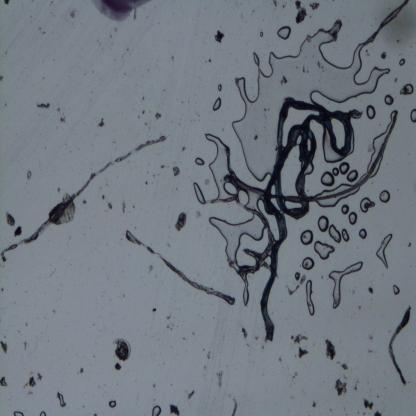Air bubble: (229, 19, 393, 170), (208, 214, 266, 272), (204, 132, 234, 198), (329, 260, 363, 309), (376, 233, 394, 268), (320, 130, 338, 164), (242, 189, 264, 212), (368, 128, 384, 159), (314, 240, 336, 260), (239, 272, 250, 306), (321, 182, 350, 194), (192, 181, 206, 205), (306, 280, 315, 317), (316, 196, 341, 209), (328, 224, 342, 244), (320, 170, 336, 187), (276, 25, 292, 40), (302, 256, 316, 272), (300, 229, 314, 245), (318, 215, 329, 232), (57, 390, 67, 408), (379, 188, 391, 203), (338, 161, 350, 175), (401, 82, 413, 96), (366, 105, 377, 120), (360, 197, 370, 213), (150, 404, 163, 416), (347, 168, 358, 182), (212, 96, 222, 111), (348, 211, 358, 226), (250, 49, 260, 64), (342, 228, 350, 243), (391, 283, 401, 295), (384, 94, 394, 106), (358, 228, 368, 239), (341, 204, 350, 215), (306, 163, 314, 175), (195, 156, 205, 165), (410, 108, 416, 122), (331, 166, 339, 176), (398, 58, 406, 66), (109, 399, 116, 408), (14, 410, 24, 416), (295, 272, 302, 280), (40, 410, 46, 416), (218, 84, 222, 92), (259, 30, 263, 36)
Background material: (49, 192, 76, 228), (112, 338, 132, 362), (286, 274, 306, 295), (294, 0, 308, 25), (323, 336, 337, 361), (288, 332, 307, 346), (334, 377, 347, 396), (174, 212, 187, 231), (3, 210, 17, 227), (168, 403, 181, 416), (362, 396, 374, 410), (35, 100, 50, 110), (214, 29, 224, 44), (216, 370, 224, 388), (336, 361, 350, 371), (13, 224, 22, 238), (231, 398, 238, 416), (28, 376, 38, 388), (298, 348, 308, 360), (352, 378, 362, 390), (0, 340, 8, 354), (172, 164, 180, 177), (188, 388, 196, 400), (97, 116, 105, 128), (279, 75, 288, 85), (0, 376, 8, 387), (308, 3, 320, 10), (290, 371, 298, 381), (364, 201, 375, 208), (38, 27, 47, 35), (26, 170, 32, 181), (106, 202, 114, 210), (380, 51, 388, 59), (195, 209, 202, 218), (115, 362, 122, 371), (368, 286, 375, 295), (242, 327, 247, 339), (37, 372, 43, 382), (154, 112, 162, 119), (59, 115, 67, 122), (166, 324, 174, 331), (70, 9, 76, 18), (273, 0, 279, 9), (207, 349, 212, 359), (23, 340, 28, 350), (26, 390, 34, 396), (406, 240, 412, 248), (22, 381, 28, 389), (50, 268, 56, 276), (366, 48, 371, 57), (122, 202, 126, 213), (251, 8, 257, 15), (375, 410, 382, 416), (165, 242, 171, 249), (312, 400, 318, 407), (368, 333, 374, 340), (278, 354, 283, 362), (148, 264, 153, 272), (302, 64, 306, 74), (4, 0, 10, 6), (180, 146, 186, 152), (81, 198, 87, 204), (204, 179, 210, 185), (79, 367, 84, 374), (166, 315, 172, 320), (100, 194, 105, 200), (151, 382, 156, 388), (254, 134, 258, 141), (56, 186, 61, 191), (161, 165, 166, 170), (254, 335, 259, 340), (396, 38, 401, 43), (203, 365, 208, 370), (151, 308, 157, 312), (0, 73, 3, 81), (140, 110, 146, 114), (121, 293, 125, 299), (174, 186, 178, 192), (136, 114, 140, 120), (368, 349, 374, 353), (317, 60, 320, 68), (171, 55, 174, 62), (208, 57, 212, 62), (320, 274, 324, 279), (394, 77, 398, 82), (142, 96, 145, 102), (25, 321, 28, 327), (359, 304, 362, 310), (388, 328, 391, 334), (182, 336, 186, 340), (92, 354, 96, 358), (306, 70, 310, 74), (362, 412, 366, 416), (282, 4, 286, 8), (115, 27, 118, 32), (143, 123, 148, 126), (4, 102, 7, 107), (248, 343, 251, 348), (145, 180, 148, 185), (221, 127, 224, 132), (53, 309, 56, 314), (192, 331, 195, 336), (30, 371, 34, 374), (124, 72, 127, 76), (410, 44, 413, 48), (264, 107, 267, 111), (2, 264, 5, 268), (1, 287, 4, 291), (376, 394, 380, 397), (410, 264, 413, 268), (309, 15, 312, 19), (170, 383, 173, 386), (94, 413, 97, 416), (69, 263, 72, 266), (110, 34, 112, 38), (262, 346, 264, 350), (147, 170, 149, 174), (181, 102, 184, 104), (152, 175, 155, 177), (164, 89, 166, 92), (198, 114, 200, 117), (58, 288, 60, 291), (148, 69, 150, 72), (132, 206, 135, 208), (51, 1, 53, 3), (332, 0, 334, 2), (127, 48, 128, 51), (203, 349, 204, 351)
Cellulose filter fibre: (0, 136, 166, 263), (125, 226, 236, 306), (214, 143, 274, 275), (364, 0, 410, 45), (387, 303, 411, 388)
Cotton: (260, 94, 360, 343)
Hair: (234, 108, 397, 203)
Pen: (91, 0, 154, 24)
